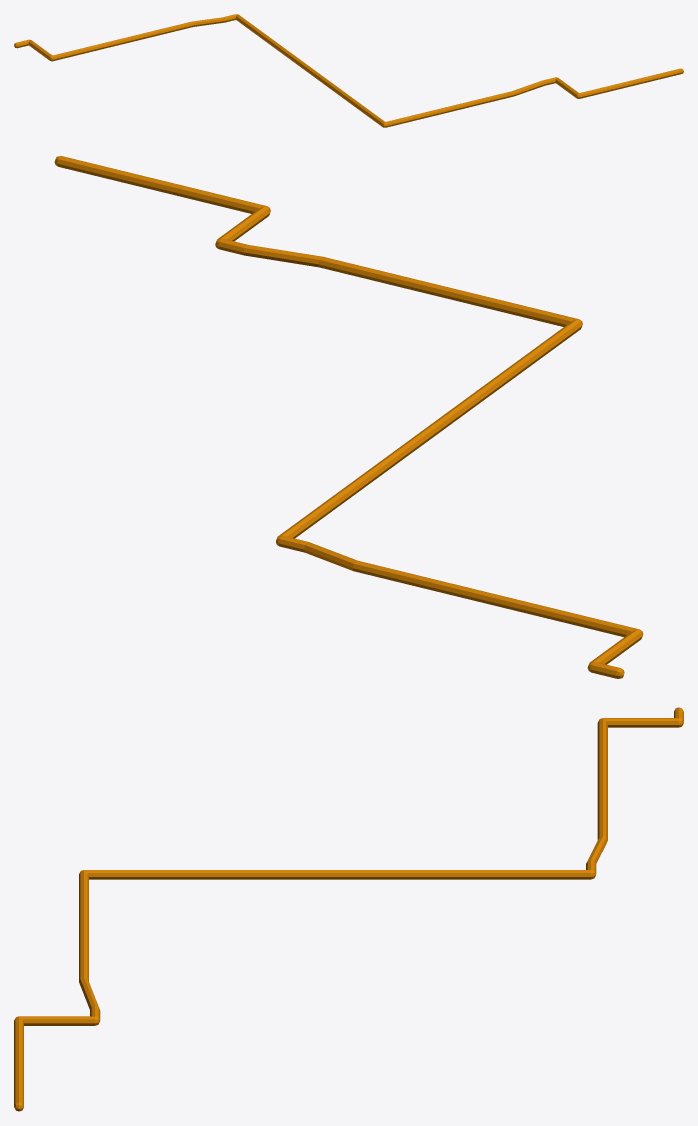
3 views of the same model, one above another, from view 1: azimuth 30°, elevation 25°; view 2: azimuth 150°, elevation 25°; view 3: azimuth 270°, elevation 25° (orthographic). The views are drawn at different scales.
Size of the model in its own units: 1861 by 20 by 1321.
